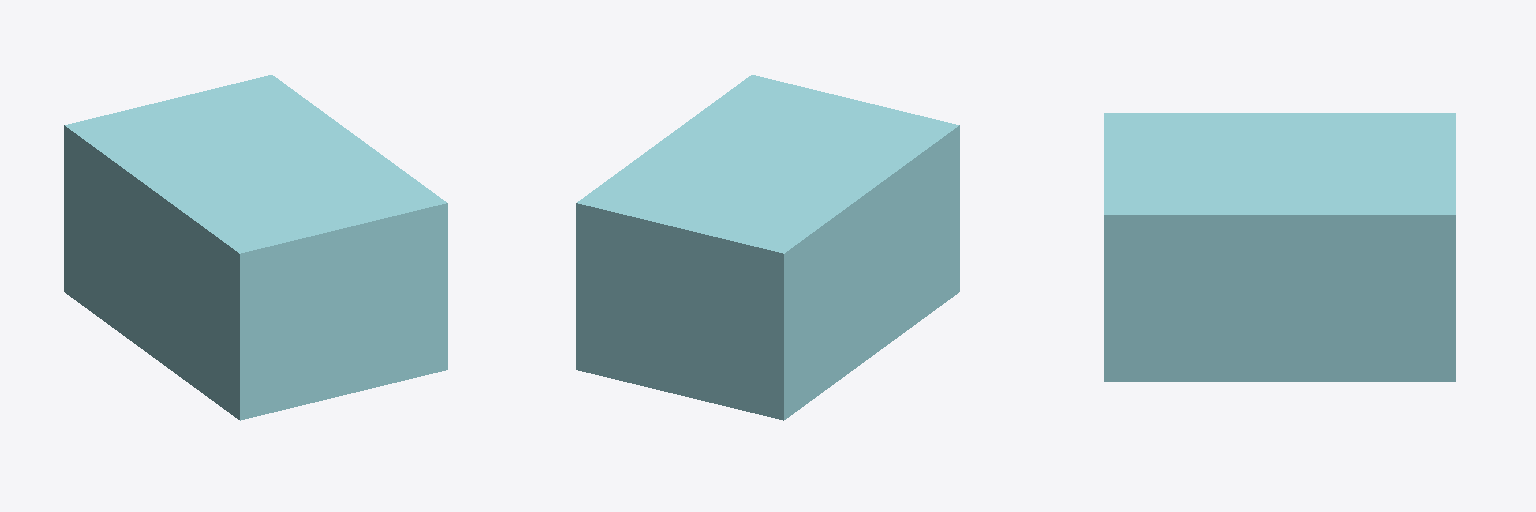
File: tinker.obj
3 renders of one model, left to right at view 1: azimuth 30°, elevation 25°; view 2: azimuth 150°, elevation 25°; view 3: azimuth 270°, elevation 25°, orthographic.
Parts seen in each view (by area): view 1: obj_0; view 2: obj_0; view 3: obj_0.
Part boxes in pixels (x1,y1,x2,y2): obj_0: (64,75,447,420); obj_0: (576,75,959,420); obj_0: (1104,113,1455,381).
Size of the model in its own units: 26.05 by 22 by 38.1.